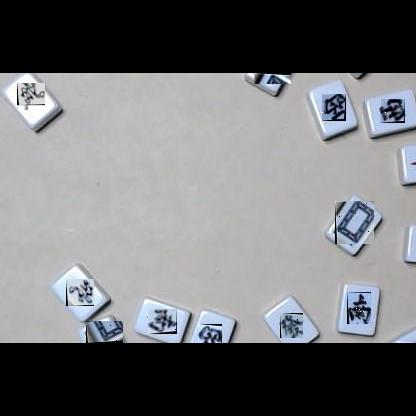2z: (347, 292, 371, 324), (148, 309, 177, 334)
3z: (322, 94, 346, 121), (380, 99, 405, 123), (198, 324, 222, 343)
4z: (66, 279, 94, 306), (17, 84, 45, 110)
5z: (335, 201, 374, 244), (86, 321, 123, 343), (254, 73, 291, 84)
6z: (280, 313, 303, 338), (397, 341, 416, 343)
